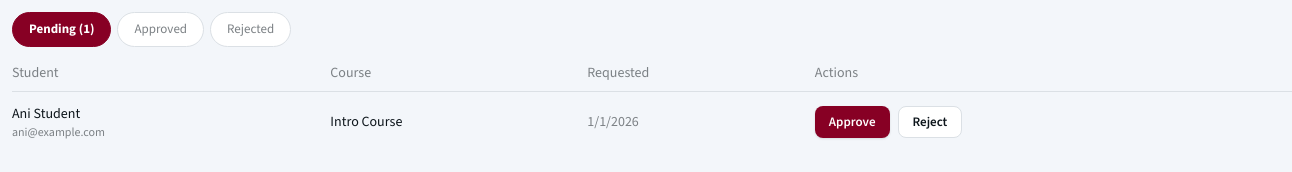
Scenario: ParishJoinRequestsManager › approves a pending request and shows a success message
What coordinates should you click on to do the following:
click the button "Approve"
I would click on:
 (852, 122)
Its box is x1=815 y1=106 x2=890 y2=138.
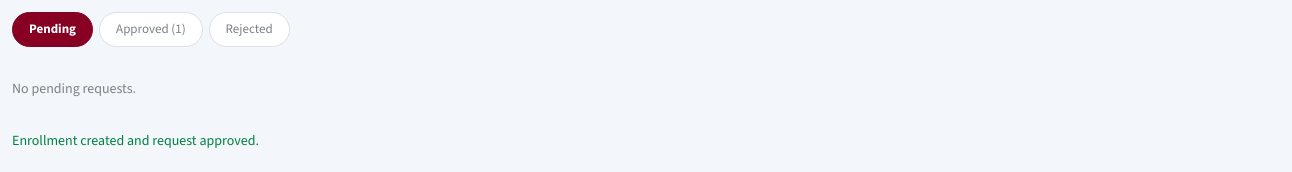
Expected: the text "Enrollment created and request approved." is shown, x1=12 y1=131 x2=259 y2=150
